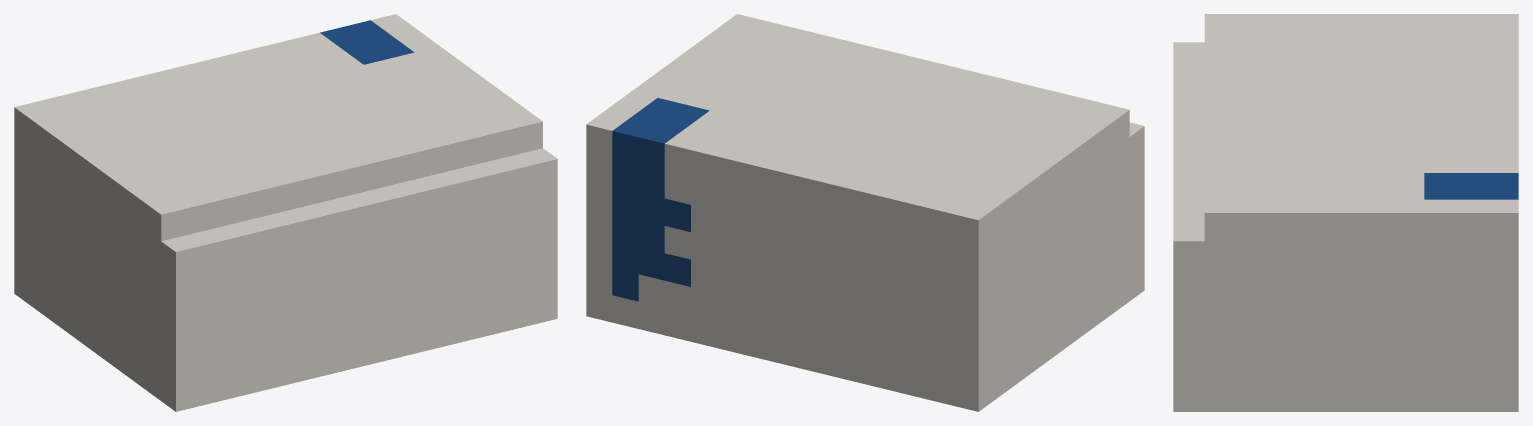
The model's file is parking_garage.glb.
The picture shows the model from 3 angles, left to right: view 1: azimuth 30°, elevation 25°; view 2: azimuth 150°, elevation 25°; view 3: azimuth 270°, elevation 25°; orthographic projection. The views are drawn at different scales.
Visible parts, largest first — view 1: parking_garage_concrete, parking_garage_garda_blue; view 2: parking_garage_concrete, parking_garage_garda_blue; view 3: parking_garage_concrete, parking_garage_garda_blue.
Part boxes in pixels (x1,y1,x2,y2): parking_garage_concrete: [14, 14, 557, 411]; parking_garage_garda_blue: [320, 20, 414, 64]; parking_garage_concrete: [586, 14, 1144, 411]; parking_garage_garda_blue: [612, 98, 709, 301]; parking_garage_concrete: [1173, 14, 1518, 411]; parking_garage_garda_blue: [1424, 173, 1518, 199].
Bounding box in the file's own units: 33.33 × 15.55 × 24.44.
